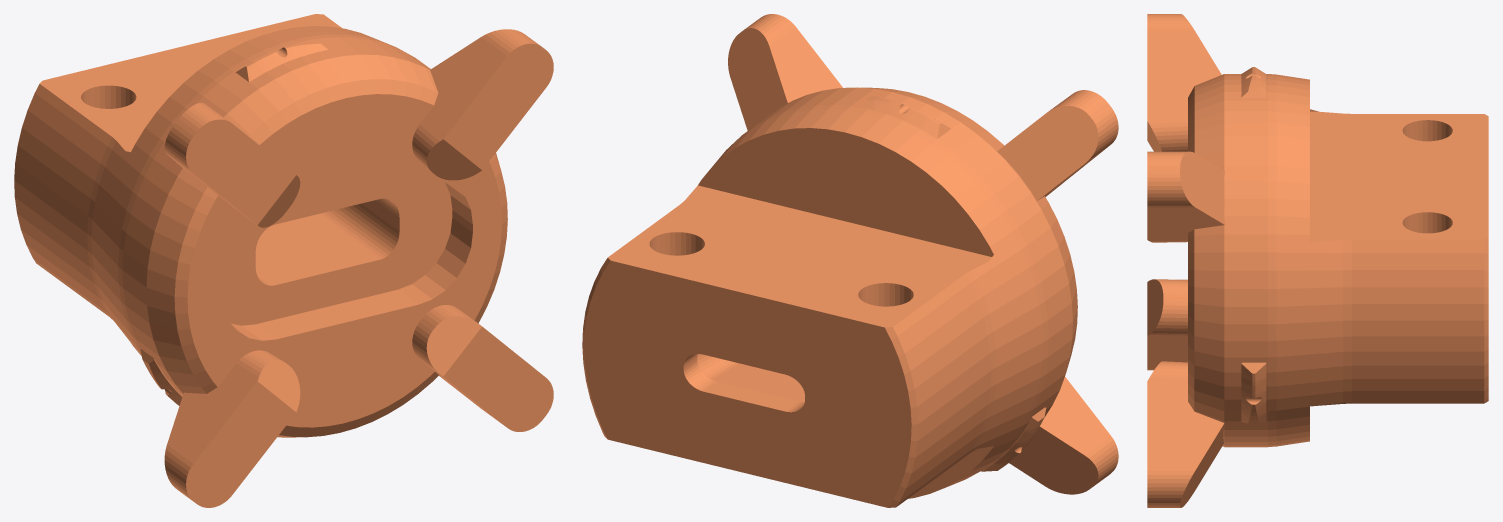
The model's file is Usb_Color.glb.
3 renders of one model, left to right at view 1: azimuth 30°, elevation 25°; view 2: azimuth 150°, elevation 25°; view 3: azimuth 270°, elevation 25°, orthographic. The views are drawn at different scales.
Parts seen in each view (by area): view 1: Soild_Cap.Base; view 2: Soild_Cap.Base; view 3: Soild_Cap.Base.
Boxes of the visible parts, x1,y1,x2,y2 form: Soild_Cap.Base: (14, 14, 553, 507); Soild_Cap.Base: (582, 14, 1118, 507); Soild_Cap.Base: (1147, 14, 1488, 507).
Size of the model in its own units: 24.5 by 24.65 by 21.71.
